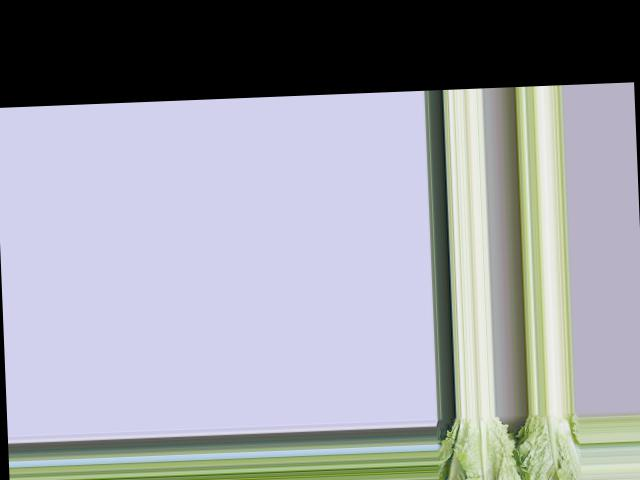lettuce: (518, 412, 578, 480)
